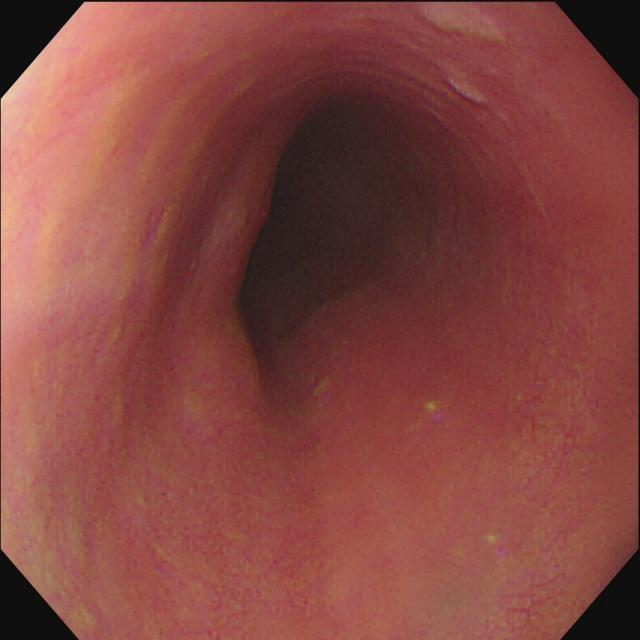E: (226, 107, 358, 335)
J: (415, 2, 504, 45), (442, 74, 494, 111)
